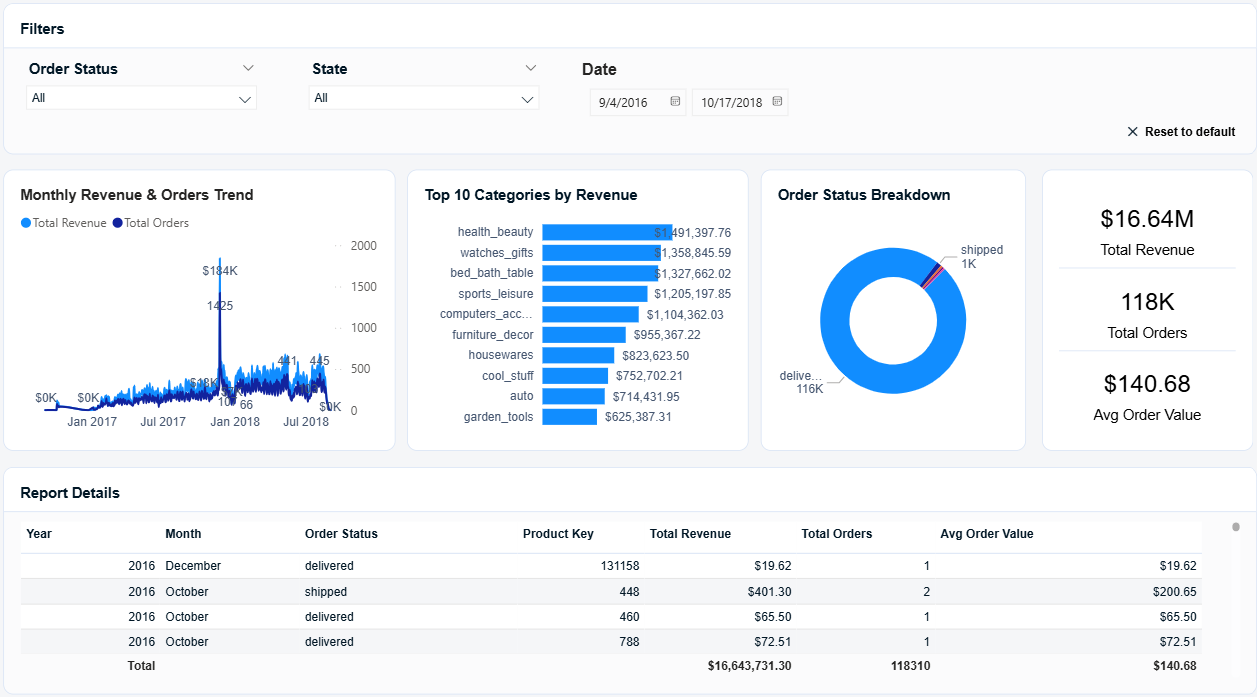

This screenshot's page, from the dashboard's own definition file:
{"tool":"powerbi","page":{"name":"Revenue & Order Overview","canvas":[1280,720],"ordinal":0},"visuals":[{"type":"tableEx","title":"Report Details","fields":{"Values":["analytics dim_date.year","analytics dim_date.month_name","analytics fact_orders.order_status","analytics fact_orders.product_key","analytics fact_orders.Total Revenue","analytics fact_orders.Total Orders","analytics fact_orders.Avg Order Value"]},"box":[16,478,1248.5,226],"z":0},{"type":"shape","title":"Filters","box":[16,16,1248.5,150],"z":1000},{"type":"slicer","title":"Supplier Status Filter","fields":{"Values":["analytics dim_order_status.order_status"]},"box":[28.6,68.6,250,70],"z":3000},{"type":"slicer","title":"Rx Status Filter","fields":{"Values":["analytics dim_customers.state"]},"box":[310,68.6,250,70],"z":4000},{"type":"slicer","title":"Date","fields":{"Values":["analytics dim_date.full_date"]},"box":[587.1,68.6,250,70],"z":6000},{"type":"donutChart","title":"Order Status Breakdown","fields":{"Category":["analytics dim_order_status.order_status"],"Y":["analytics fact_orders.Total Orders"]},"box":[770,182,264,280],"z":7000},{"type":"group","id":"g1","title":"Group 1","box":[1128.8,129.4,133.9,30.1],"z":11000},{"type":"image","title":"Reset to default Image","box":[1128.8,132.2,23.9,23.9],"z":12000,"group":"g1"},{"type":"actionButton","title":"Reset to default Button","box":[1132.3,129.4,130.3,30.1],"z":13000,"group":"g1"},{"type":"cardVisual","title":"Card (Single or Multi-Row)","fields":{"Data":["analytics fact_orders.Total Revenue","analytics fact_orders.Total Orders","analytics fact_orders.Avg Order Value"]},"box":[1050,182,210,280],"z":13000},{"type":"lineChart","title":"Monthly Revenue & Orders Trend","fields":{"Y":["analytics fact_orders.Total Revenue"],"Y2":["analytics fact_orders.Total Orders"],"Category":["analytics dim_date.full_date.Variation.Date Hierarchy.Year","analytics dim_date.full_date.Variation.Date Hierarchy.Month","analytics dim_date.full_date.Variation.Date Hierarchy.Day"]},"box":[16,182,390,280],"z":14000},{"type":"clusteredBarChart","title":"Top 10 Categories by Revenue","fields":{"Category":["analytics dim_products.category_name_en"],"Y":["analytics fact_orders.Total Revenue"]},"box":[417.8,182.2,340,280],"z":15000}]}

Visuals, with their boxes in screenshot pixels (x1, y1, x2, y2), scaled from the page's 1280x720 canvas onto the 1257x697 screenshot:
"Report Details" tableEx: (x1=16, y1=463, x2=1242, y2=682)
"Filters" shape: (x1=16, y1=15, x2=1242, y2=161)
"Supplier Status Filter" slicer: (x1=28, y1=66, x2=274, y2=134)
"Rx Status Filter" slicer: (x1=304, y1=66, x2=550, y2=134)
"Date" slicer: (x1=577, y1=66, x2=822, y2=134)
"Order Status Breakdown" donutChart: (x1=756, y1=176, x2=1015, y2=447)
"Group 1" group: (x1=1109, y1=125, x2=1240, y2=154)
"Reset to default Image" image: (x1=1109, y1=128, x2=1132, y2=151)
"Reset to default Button" actionButton: (x1=1112, y1=125, x2=1240, y2=154)
"Card (Single or Multi-Row)" cardVisual: (x1=1031, y1=176, x2=1237, y2=447)
"Monthly Revenue & Orders Trend" lineChart: (x1=16, y1=176, x2=399, y2=447)
"Top 10 Categories by Revenue" clusteredBarChart: (x1=410, y1=176, x2=744, y2=447)
